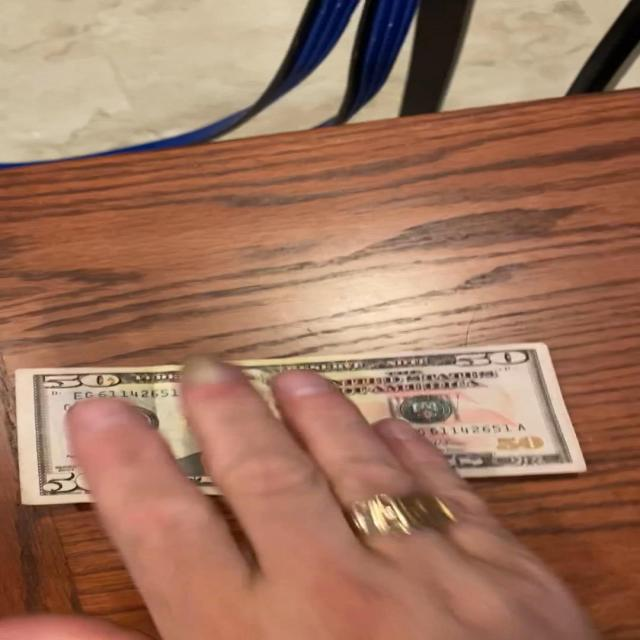50-Front: (2, 340, 612, 512)
